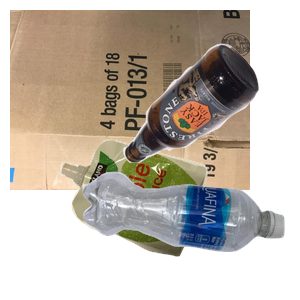cardboard: (10, 10, 250, 190)
glass: (120, 41, 300, 196)
plastic: (80, 169, 300, 300)
trash: (57, 137, 257, 300)
